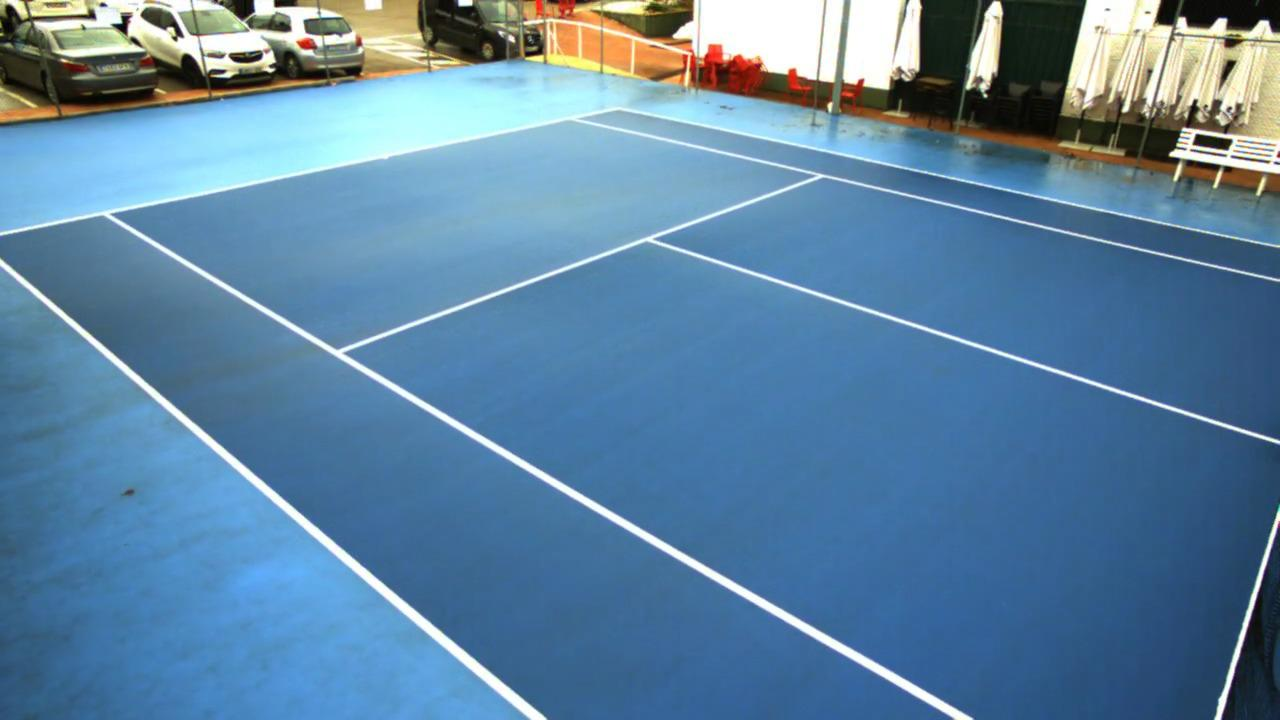cancha_tenis: (103, 117, 1280, 720)
point_f1: (91, 201, 129, 228)
point_f2: (562, 109, 588, 133)
point_fc1: (376, 150, 395, 170)
point_i1: (326, 340, 362, 366)
point_i2: (801, 163, 833, 188)
point_ic1: (637, 227, 672, 258)
